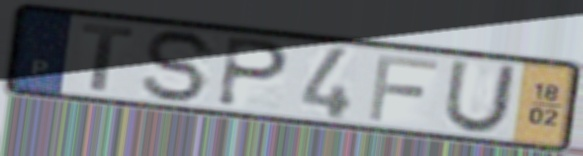4: (297, 43, 355, 122)
F: (364, 51, 441, 124)
P: (213, 34, 293, 110)
S: (140, 27, 221, 105)
T: (78, 22, 138, 94)
U: (439, 58, 521, 136)
